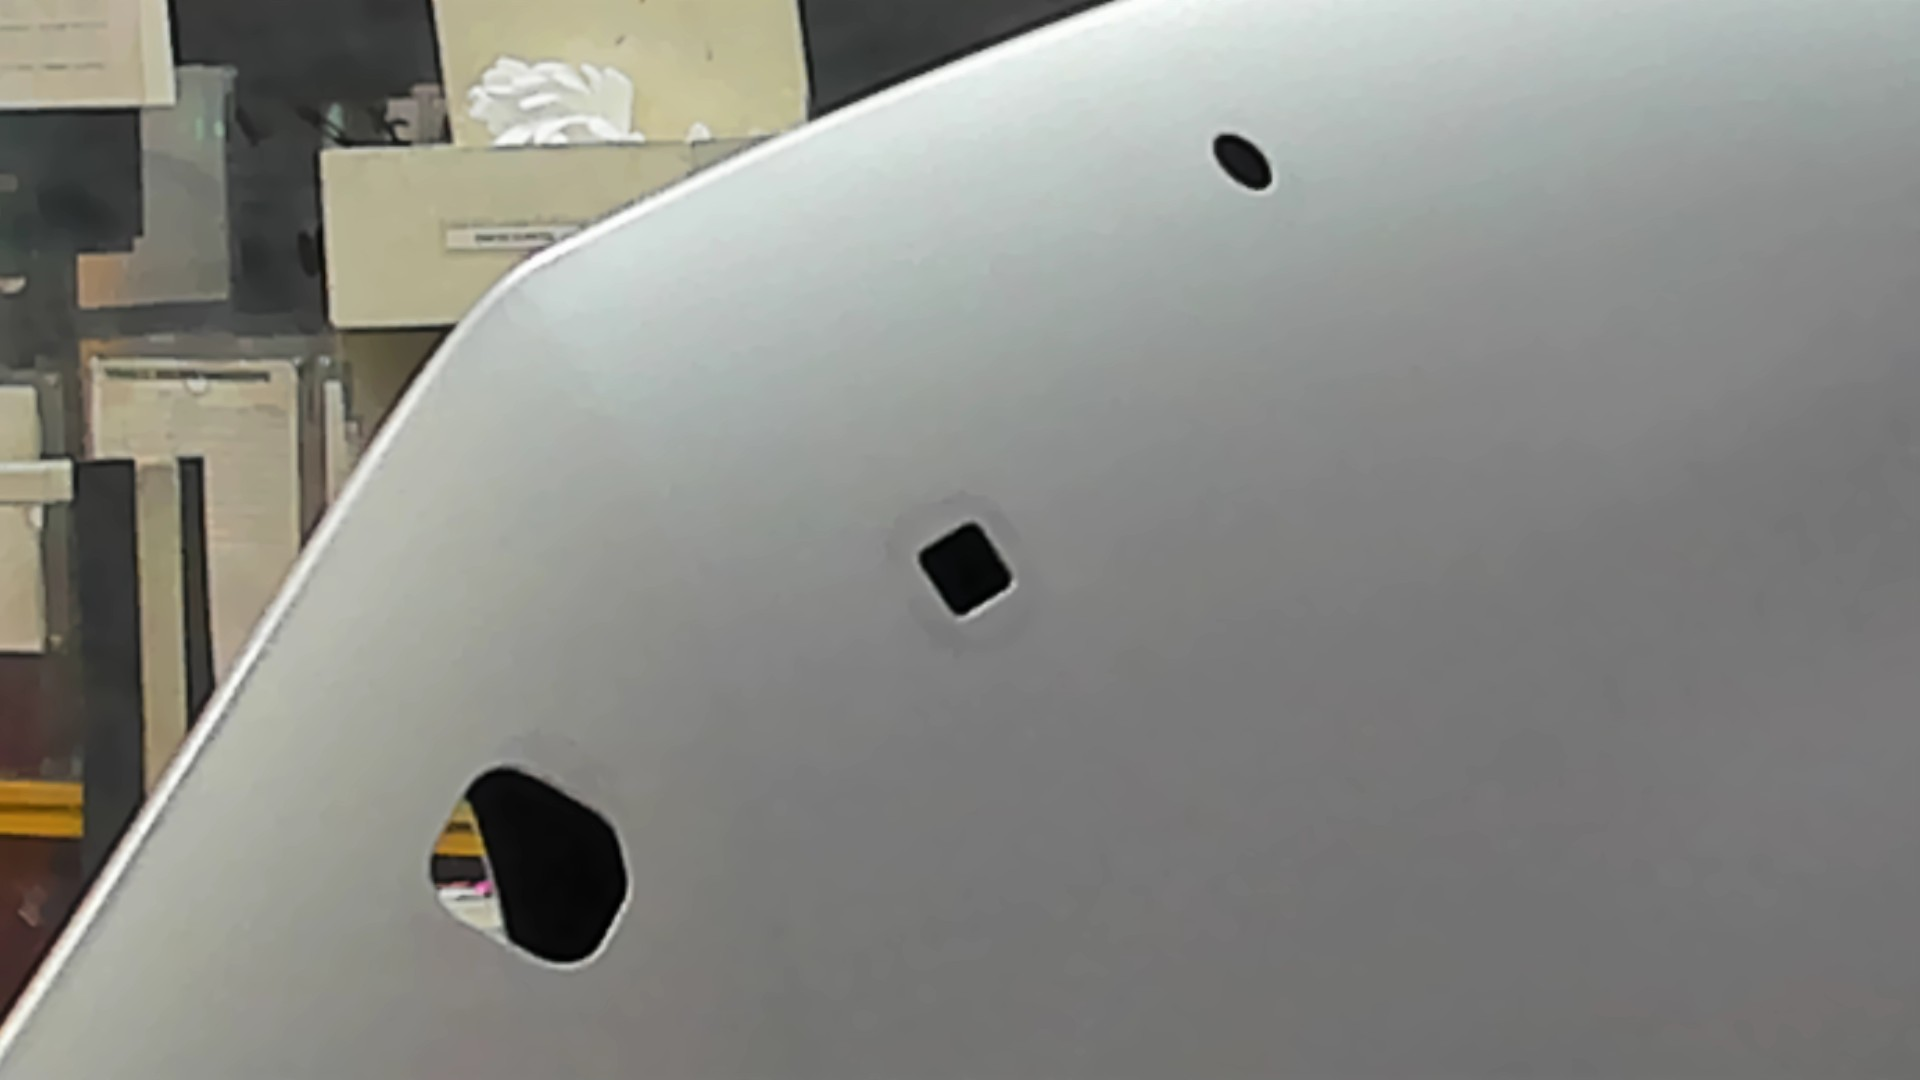Agujero: (916, 521, 1019, 624), (1211, 131, 1273, 190)
Agujerote: (429, 765, 632, 969)
